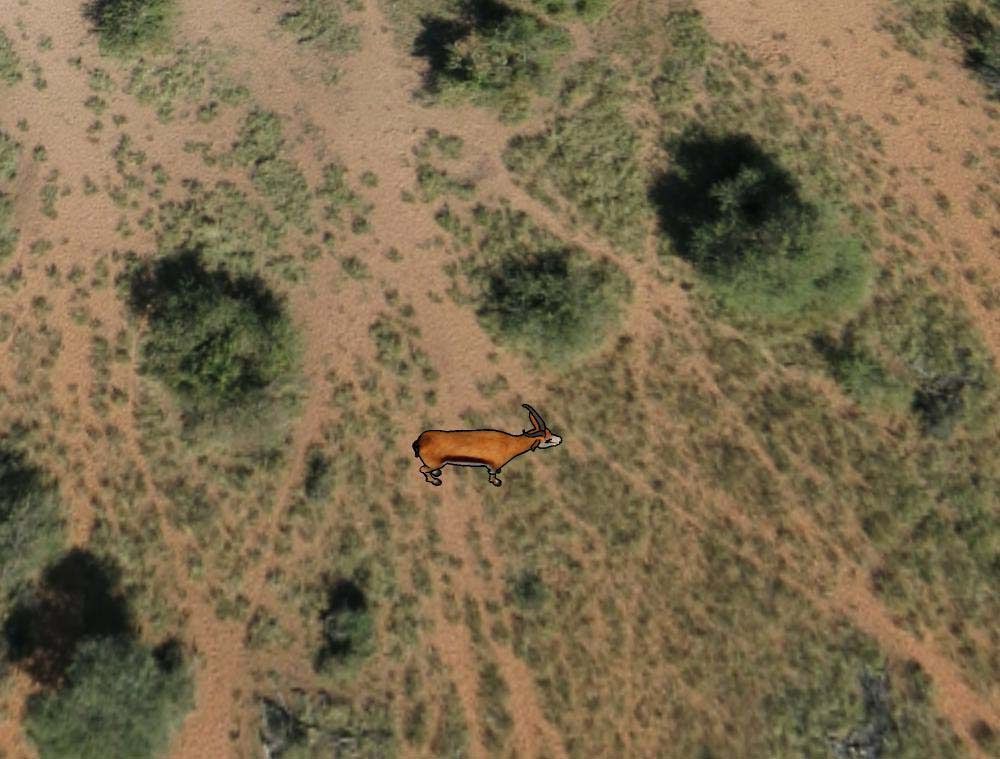springbok: (408, 401, 561, 500)
